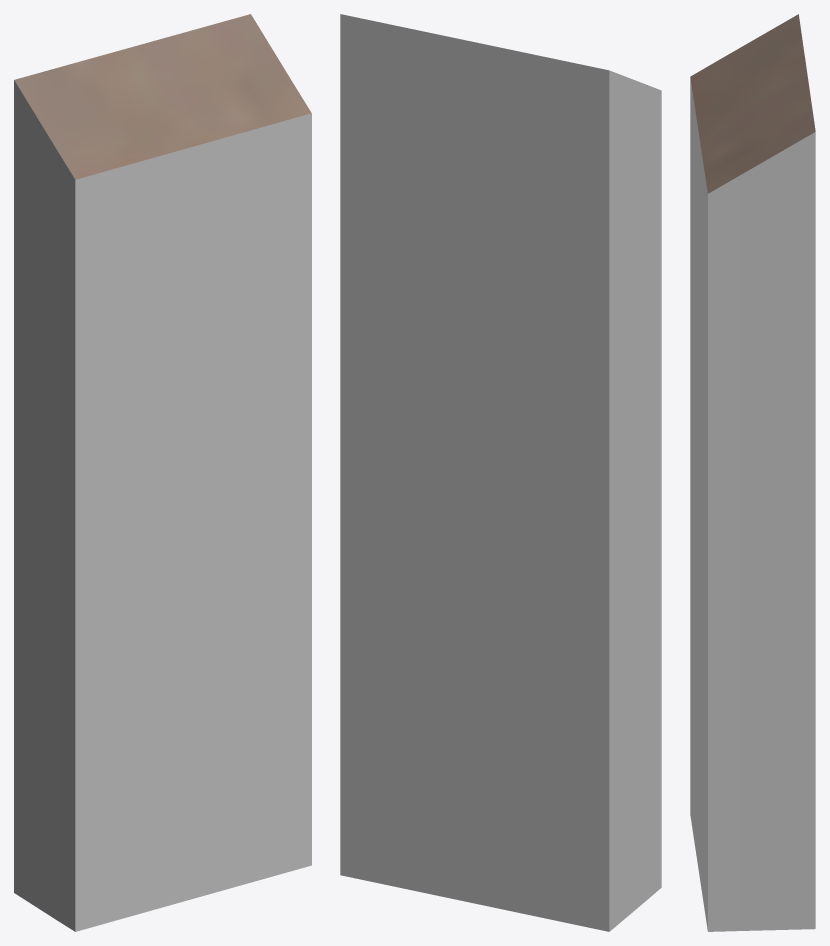
Rendered from DEBW_0010007TI0f.gltf.
The picture shows the model from 3 angles, left to right: view 1: azimuth 30°, elevation 25°; view 2: azimuth 150°, elevation 25°; view 3: azimuth 270°, elevation 25°; orthographic projection. The views are drawn at different scales.
Visible parts, largest first — view 1: Z_UP; view 2: Z_UP; view 3: Z_UP.
Part boxes in pixels (bbox=[...]): Z_UP: bbox=[14, 14, 311, 931]; Z_UP: bbox=[340, 14, 661, 931]; Z_UP: bbox=[690, 14, 815, 931].
Size of the model in its own units: 4.2 by 12.98 by 1.85.
2 materials, 1 textured.
